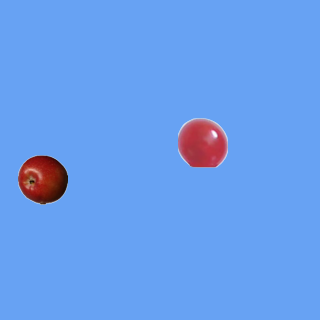Apple Braeburn: (17, 154, 67, 204)
Redcurrant: (177, 117, 227, 167)
